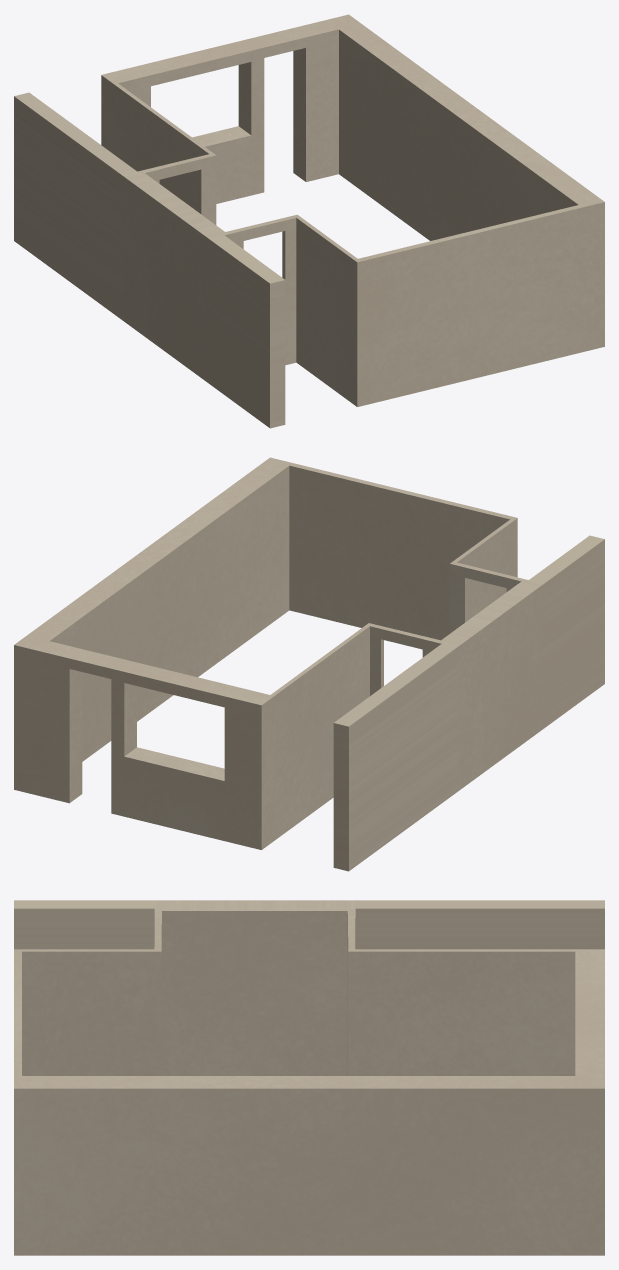
File: room_livingroom_hall_2.fbx
3 views of the same model, one above another, from view 1: azimuth 30°, elevation 25°; view 2: azimuth 150°, elevation 25°; view 3: azimuth 270°, elevation 25° (orthographic). The views are drawn at different scales.
Visible parts, largest first — view 1: room_livingroom_hall; view 2: room_livingroom_hall; view 3: room_livingroom_hall.
Boxes of the visible parts, left/top/right/bottom form: room_livingroom_hall: left=14, top=14, right=604, bottom=428; room_livingroom_hall: left=14, top=457, right=604, bottom=871; room_livingroom_hall: left=14, top=900, right=604, bottom=1255.
Size of the model in its own units: 8.47 by 3.5 by 11.22.
1 material, 1 textured.
